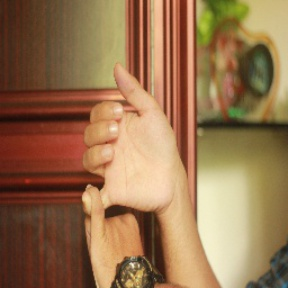S: (76, 64, 176, 283)
